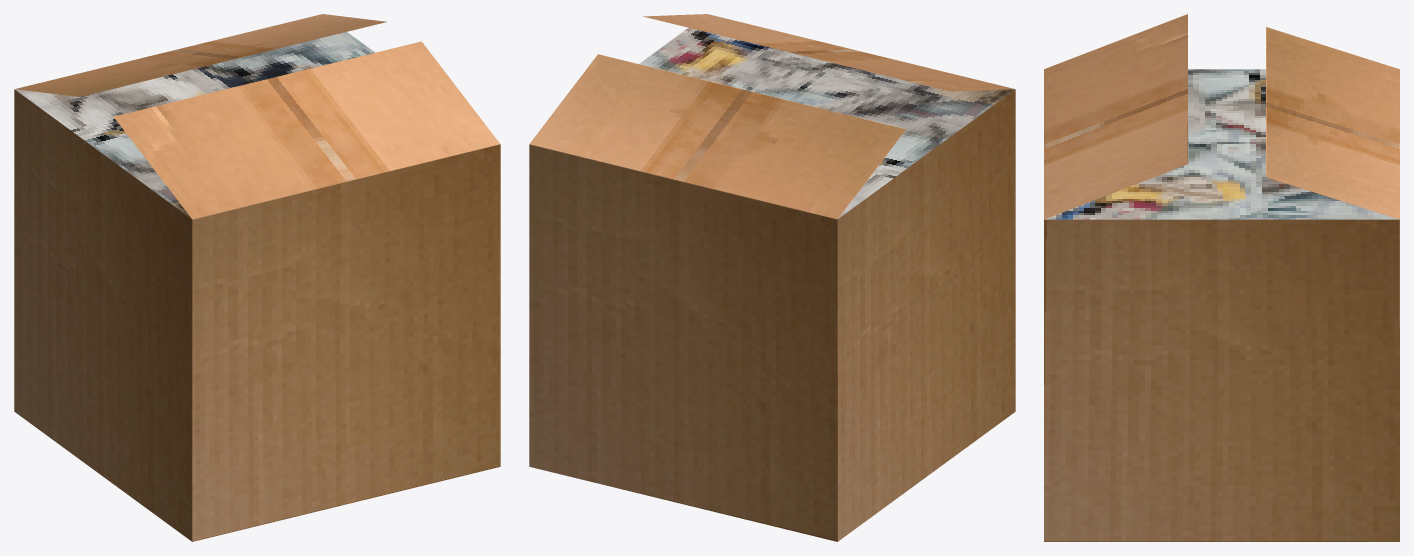
3 renders of one model, left to right at view 1: azimuth 30°, elevation 25°; view 2: azimuth 150°, elevation 25°; view 3: azimuth 270°, elevation 25°, orthographic.
Visible parts, largest first — view 1: Cube; view 2: Cube; view 3: Cube.
Boxes of the visible parts, x1=… form: Cube: x1=14, y1=14, x2=500, y2=541; Cube: x1=529, y1=14, x2=1015, y2=541; Cube: x1=1044, y1=14, x2=1399, y2=541.
Bounding box in the file's own units: 205 × 232 × 200.
Materials: 3 (3 with a texture image).
